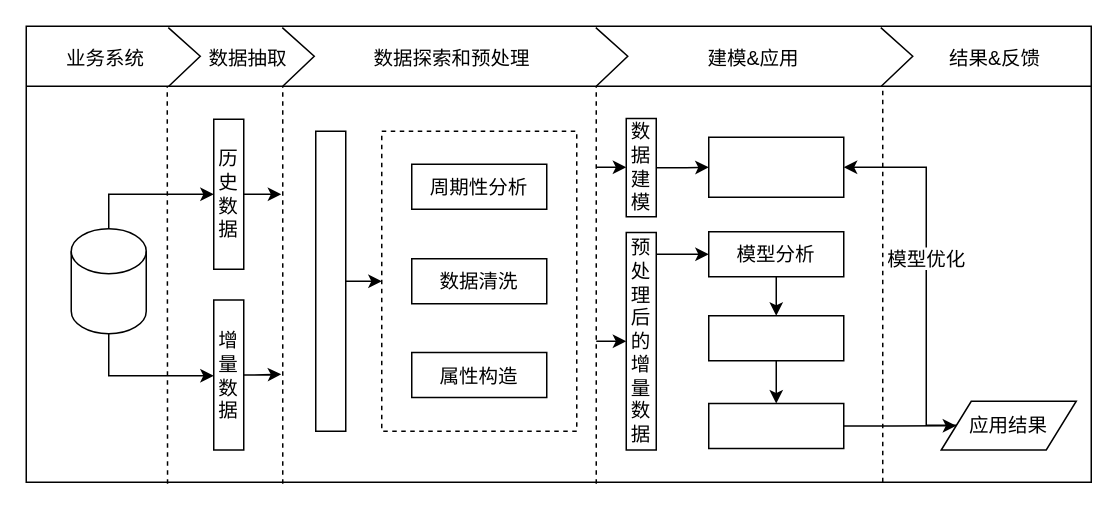
Some shapes in this 1119 by 512 pixel diagram are drawn without their labels. The box of each missing label's shape, as (x1, y1, x2, y2) in pixels:
基于 LRFMC 的客户分群: (707, 136, 844, 197)
客户价值排名: (707, 314, 844, 361)
数据源: (70, 227, 146, 334)
模型应用: (707, 402, 844, 448)
缺失值与异常值分析: (314, 130, 346, 431)
